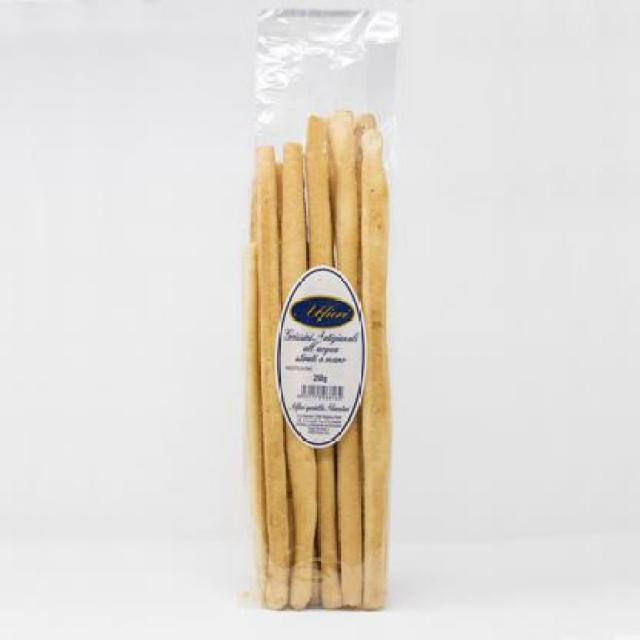Grissini: (250, 108, 392, 608)
